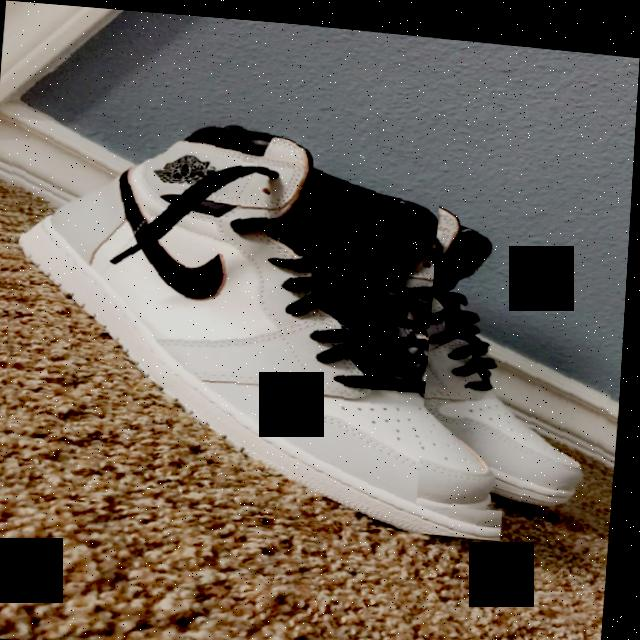shoe: (0, 78, 533, 532), (421, 164, 634, 514)
